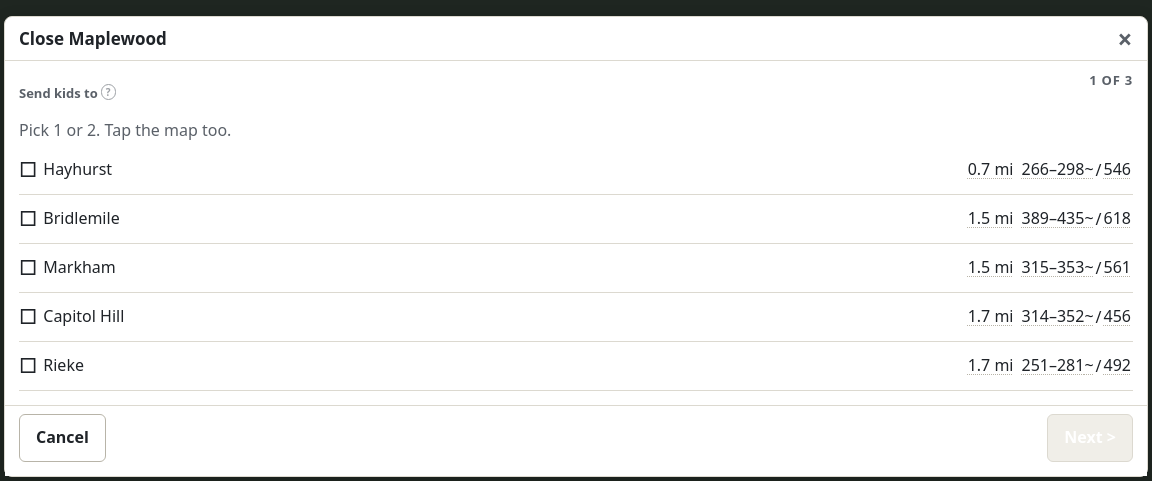
Test: CloseSendSheet › splits two receivers 70/30 by default and steps the split
Click the button "□ Hayhurst" at {"x": 78, "y": 169}, box [19,146,962,194]
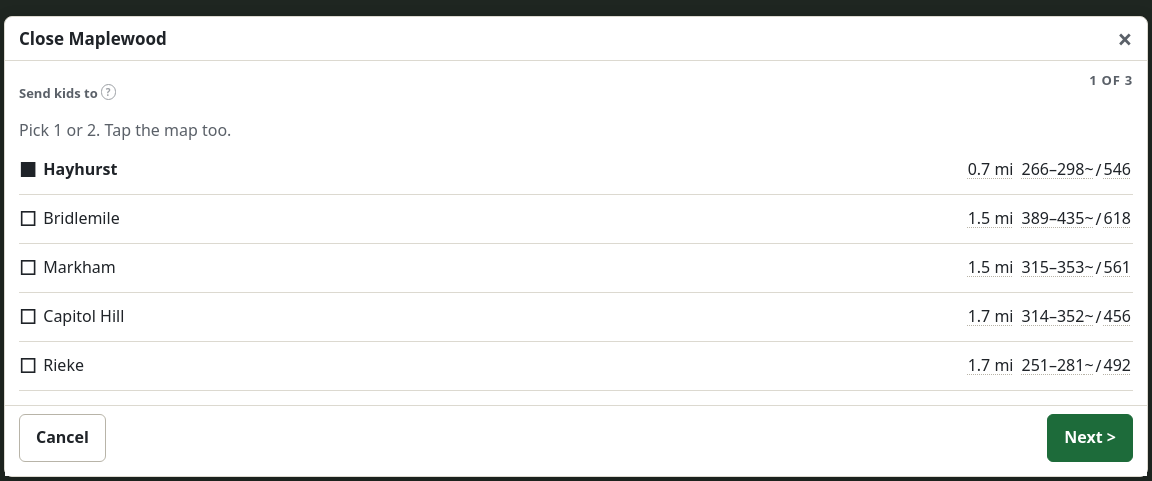
Click the button "□ Rieke" at {"x": 64, "y": 365}, box [19,342,962,390]
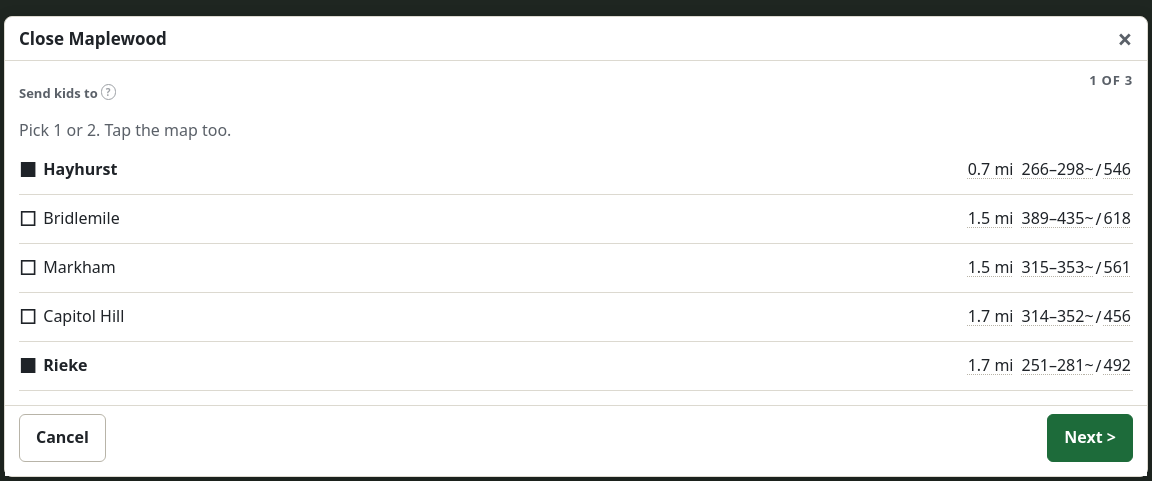
Click the button "Next >" at {"x": 1090, "y": 438}, box [1047,414,1133,462]
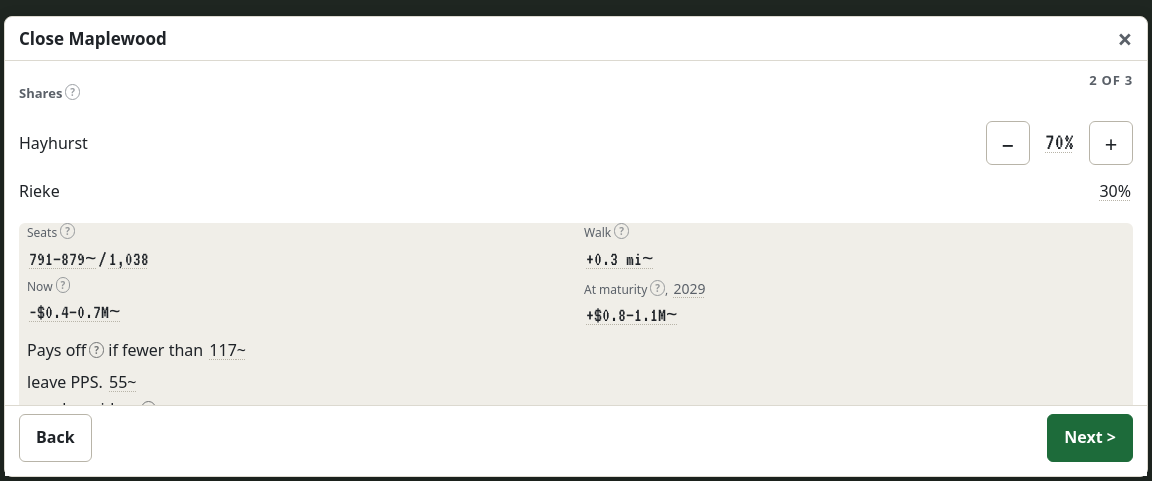
Result: the element "Hayhurst" shows "70%" at [1043,126,1076,160]
Result: the text "Rieke" reads "Rieke 30%" at [19,167,1133,215]
Click the button named "More Hayhurst" at {"x": 1111, "y": 143}, box [1089,121,1133,165]
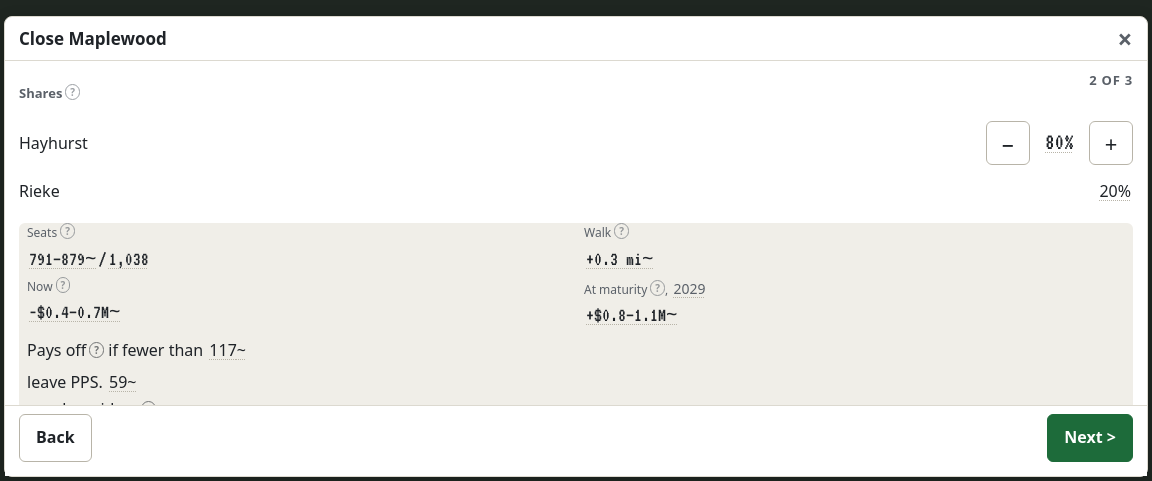
Result: the text "Rieke" reads "Rieke 20%" at [19,167,1133,215]
